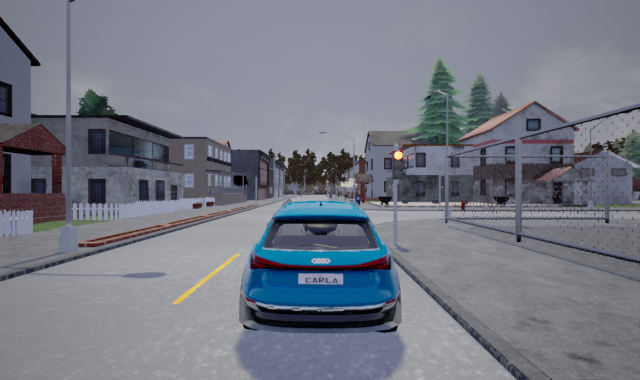vehicle: (239, 203, 402, 333)
